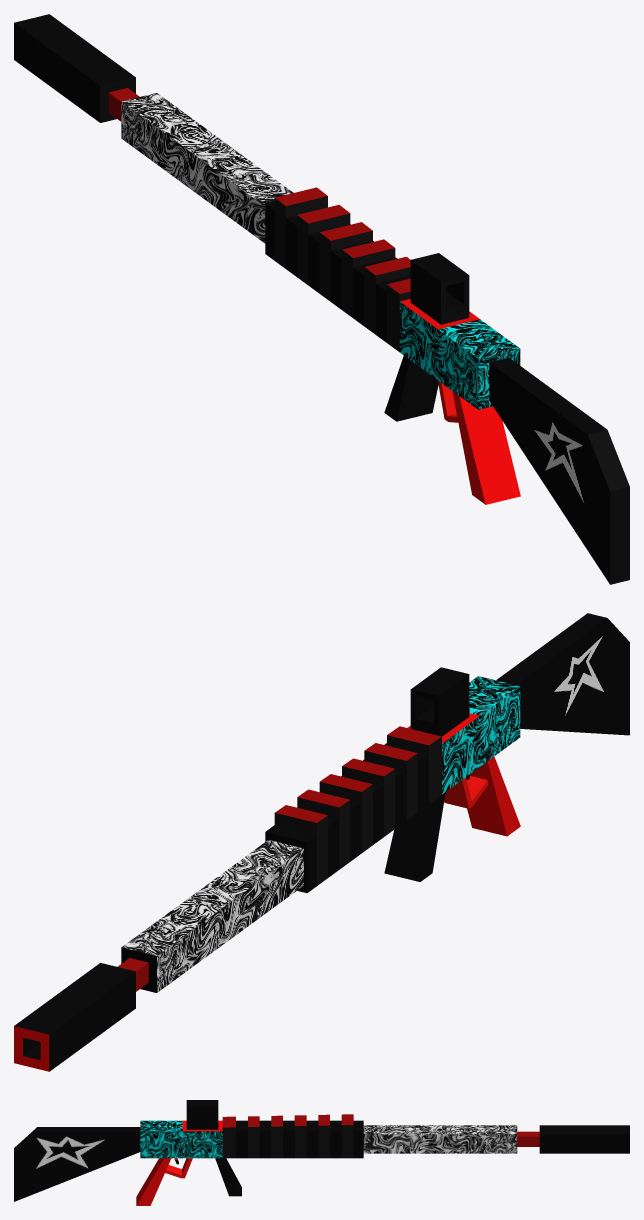
The model's file is Gun 5.fbx.
The picture shows the model from 3 angles, top to bottom: view 1: azimuth 30°, elevation 25°; view 2: azimuth 150°, elevation 25°; view 3: azimuth 270°, elevation 25°; orthographic projection. The views are drawn at different scales.
Parts seen in each view (by area): view 1: Cube.001; view 2: Cube.001; view 3: Cube.001.
Boxes of the visible parts, x1=… form: Cube.001: x1=14, y1=14, x2=629, y2=584; Cube.001: x1=14, y1=613, x2=629, y2=1071; Cube.001: x1=14, y1=1100, x2=629, y2=1205.
Size of the model in its own units: 69.77 by 296 by 1689.
Materials: 1 (1 with a texture image).
